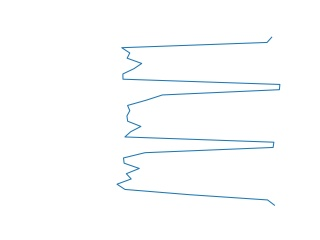majorRiverChannelBar: (116, 38, 284, 206)
